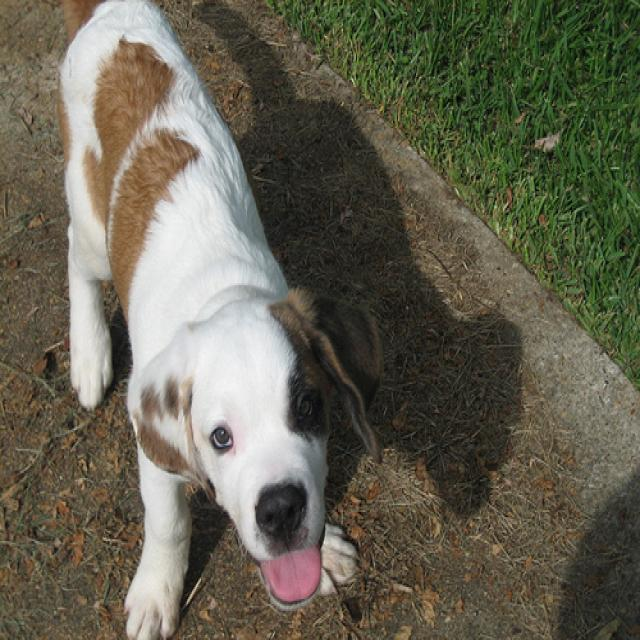dog-saint_bernard: (52, 2, 383, 637)
